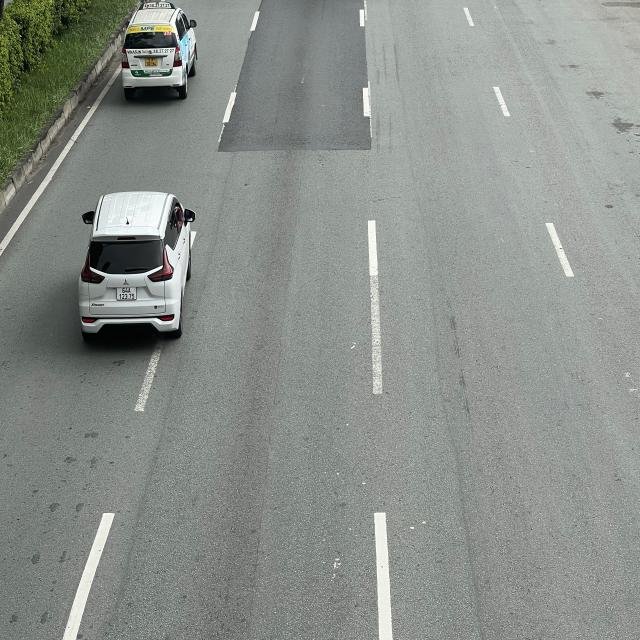car: (80, 192, 196, 338), (122, 0, 199, 101)
